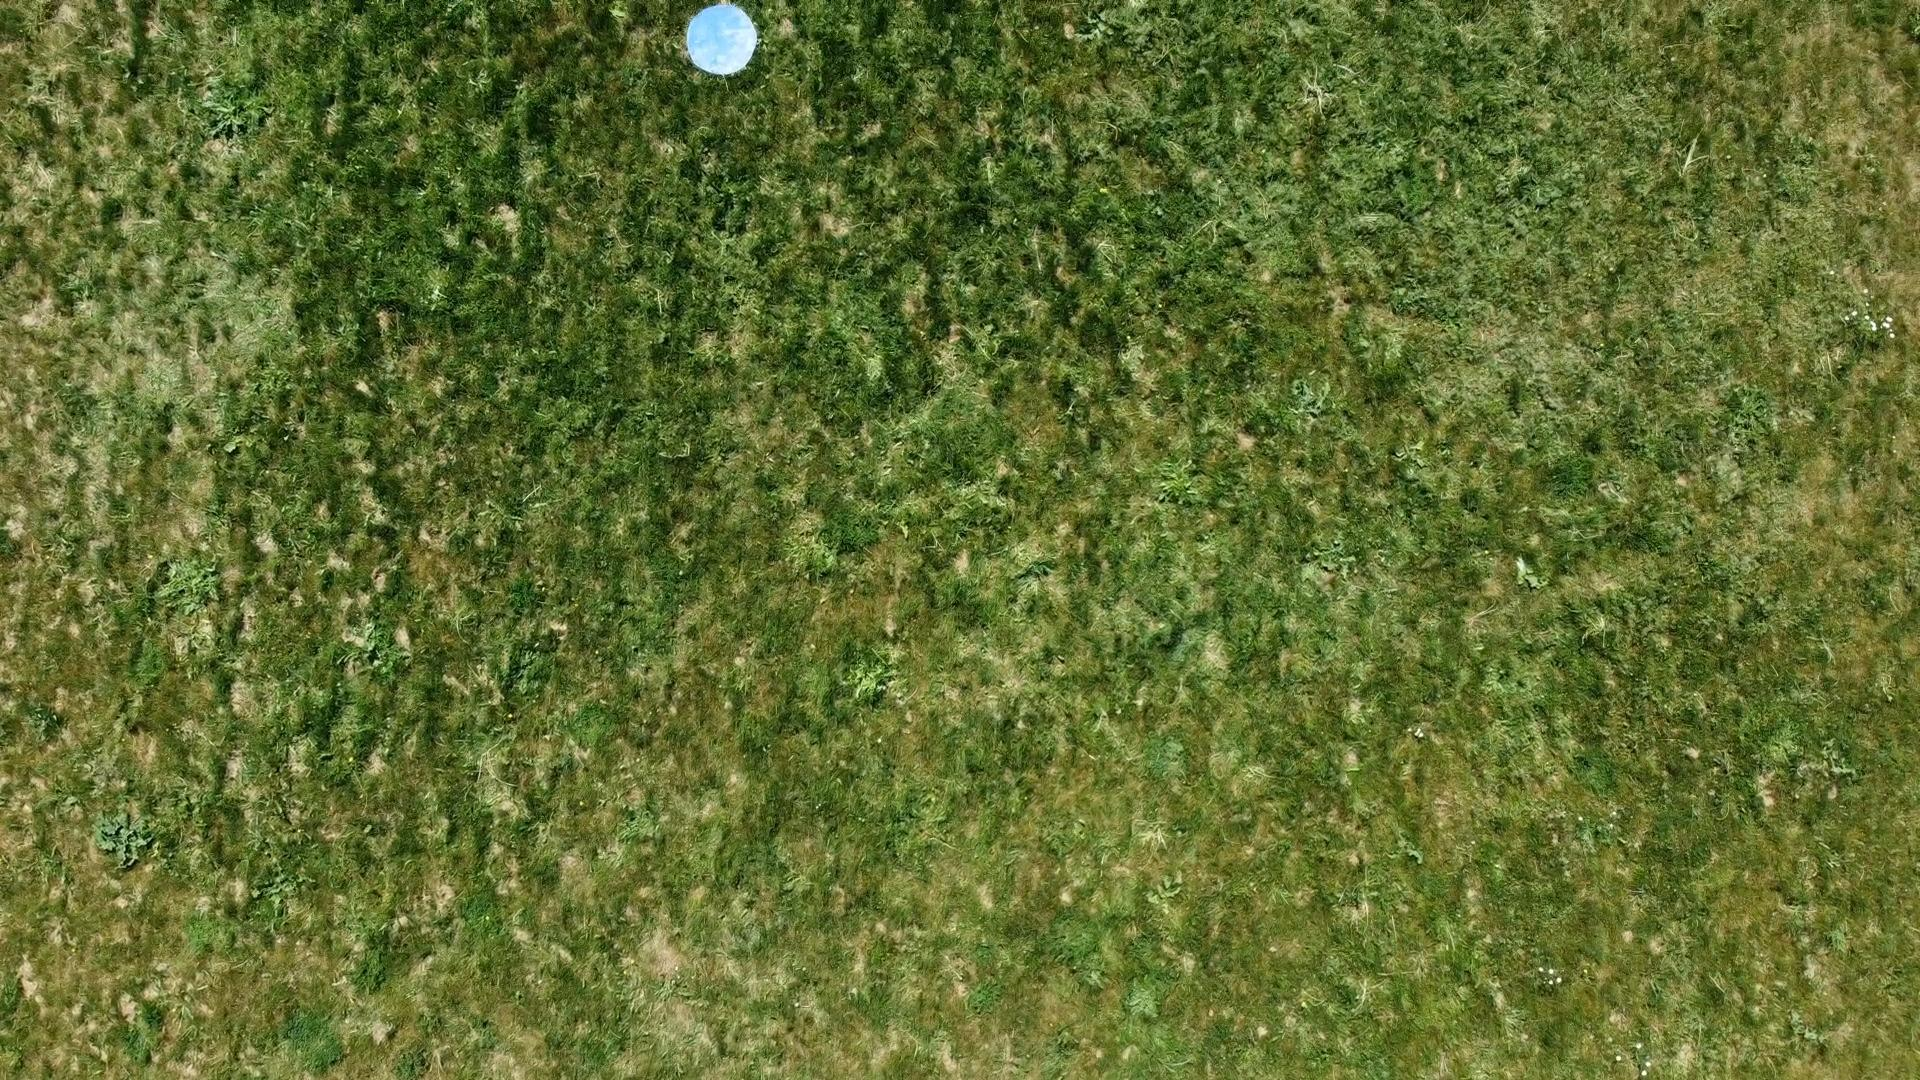Blue: (684, 3, 761, 78)
